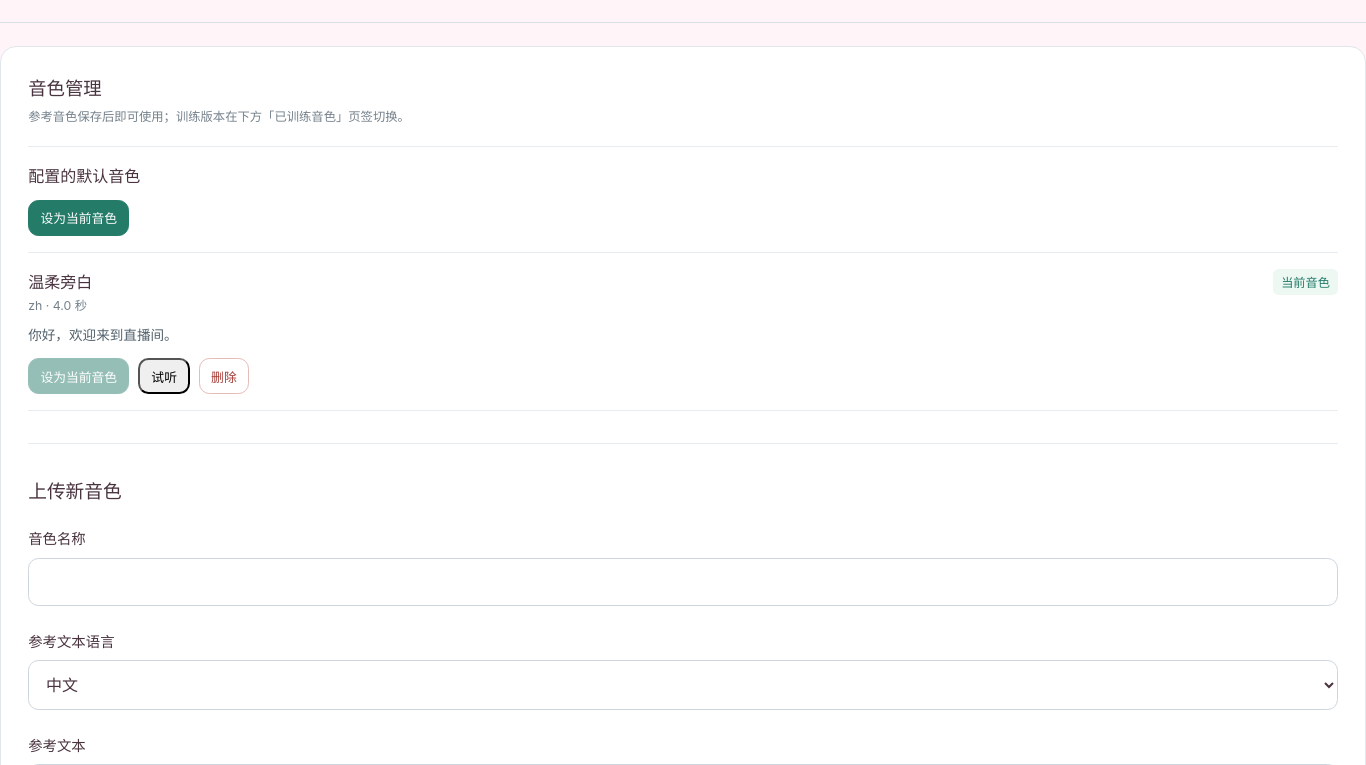
it: 音色试听进度 › 执行端断开时显示真实 cancelled 结果及断开原因
Click the button "试听" at (164, 376), box [138,358,190,394]
Wait 1000 ms
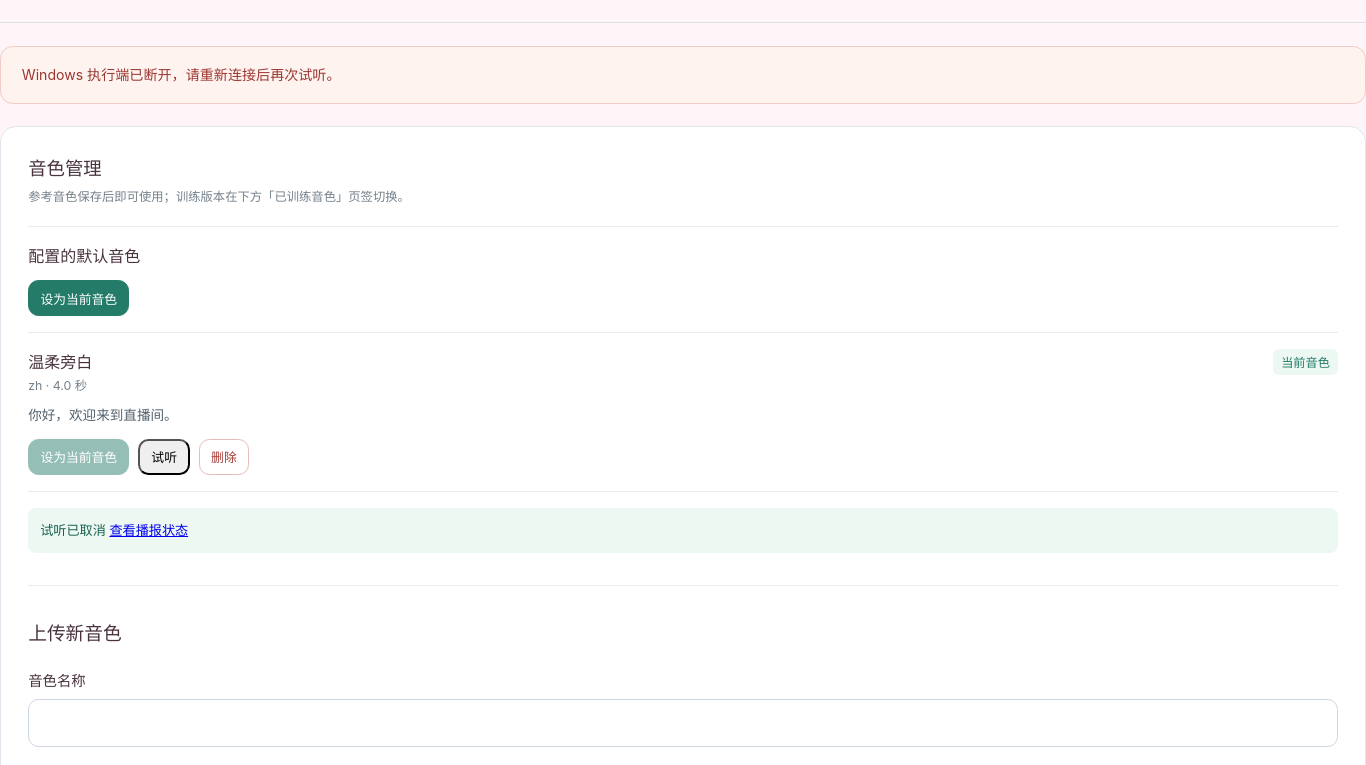
Result: the text "试听已取消 查看播报状态" is shown at [28,508,1338,553]
Result: the message "Windows 执行端已断开，请重新连接后再次试听。" is shown at [0,46,1365,104]
